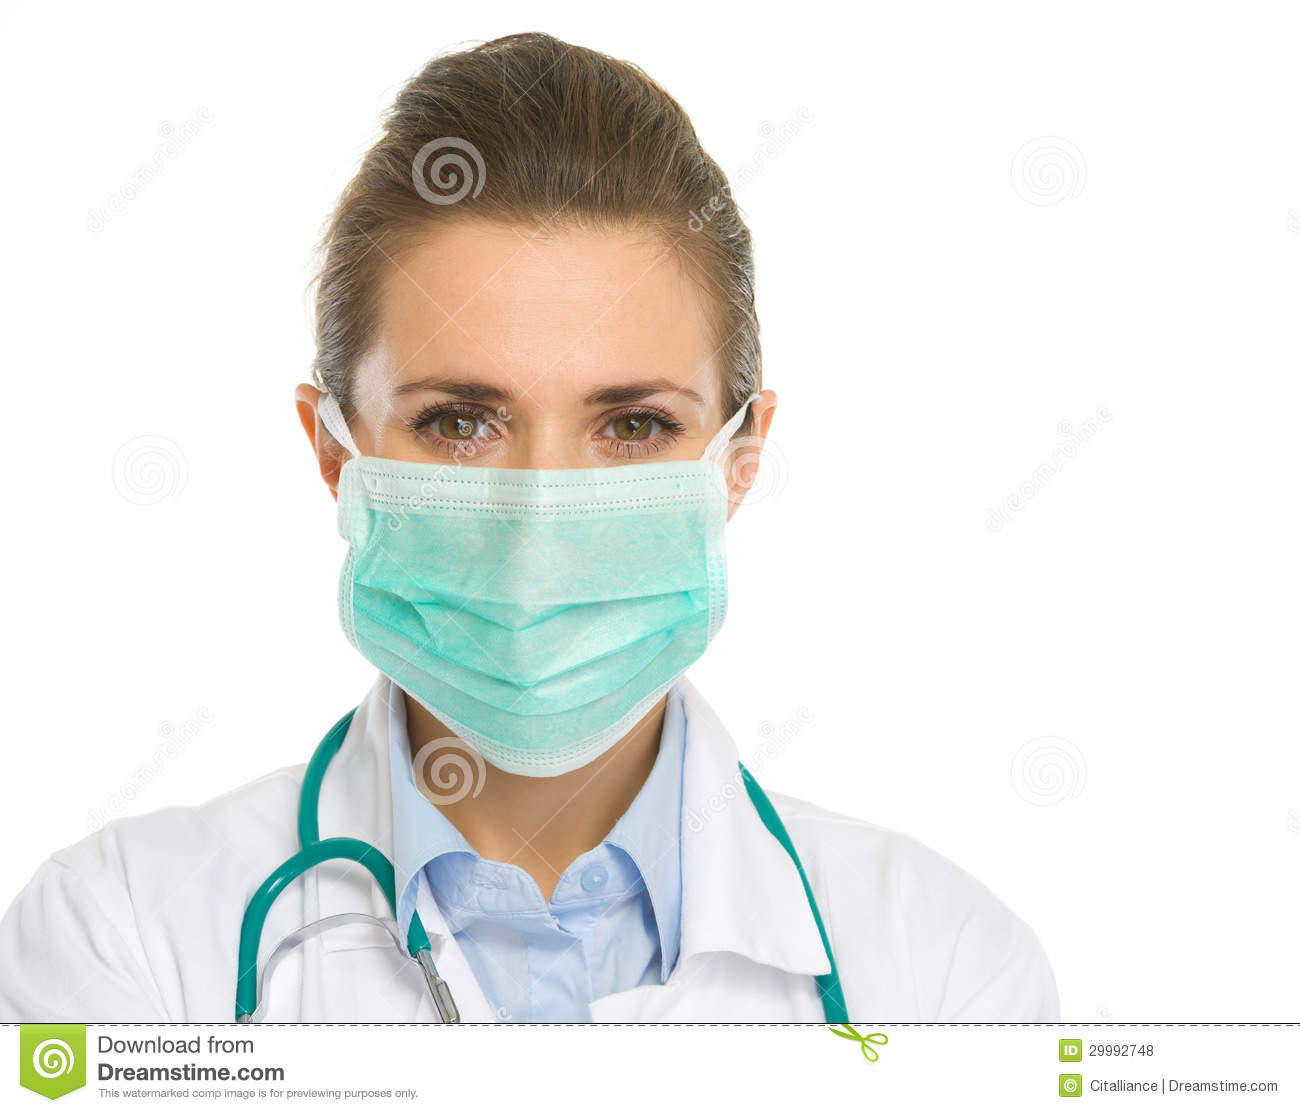mask: (340, 456, 727, 780)
